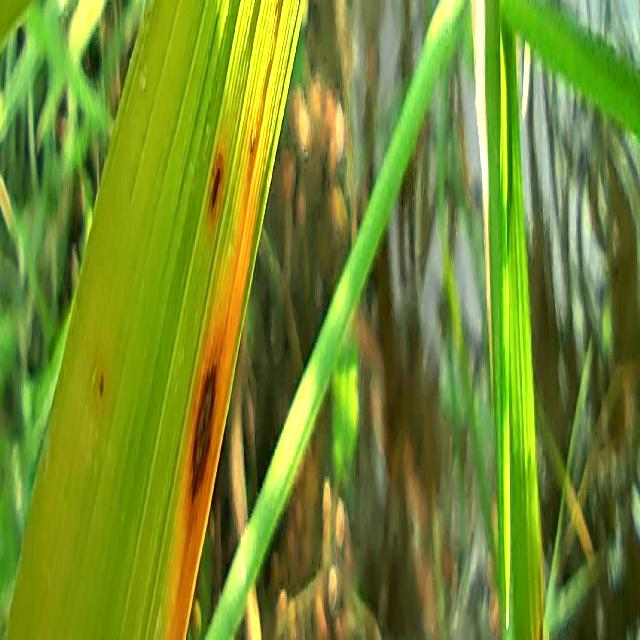LEAF BLAST: (191, 363, 216, 505)
